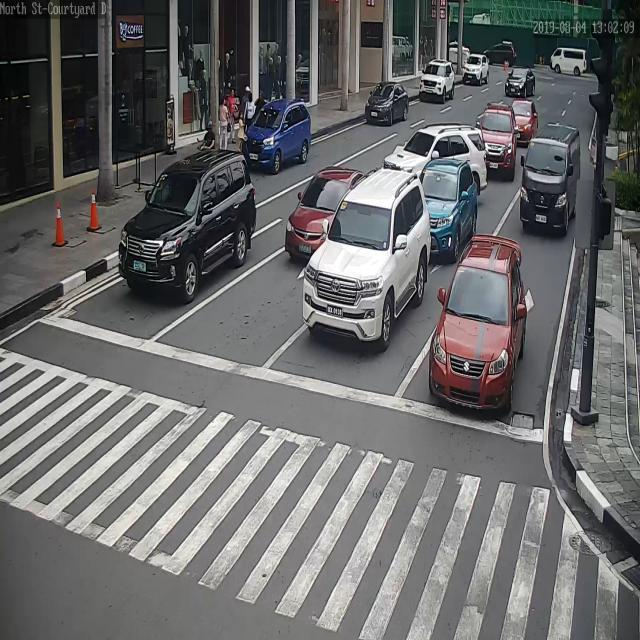car: (300, 166, 429, 347), (112, 151, 265, 297), (429, 235, 530, 413), (286, 169, 363, 261), (418, 158, 482, 265), (379, 126, 490, 181), (244, 99, 316, 174), (478, 105, 522, 176), (487, 104, 537, 157), (366, 81, 411, 129), (418, 60, 456, 106), (501, 98, 539, 142), (504, 67, 538, 100), (462, 54, 491, 84), (486, 41, 518, 66)
jeepney: (198, 122, 220, 152)
van: (519, 125, 583, 229), (547, 48, 588, 75)
